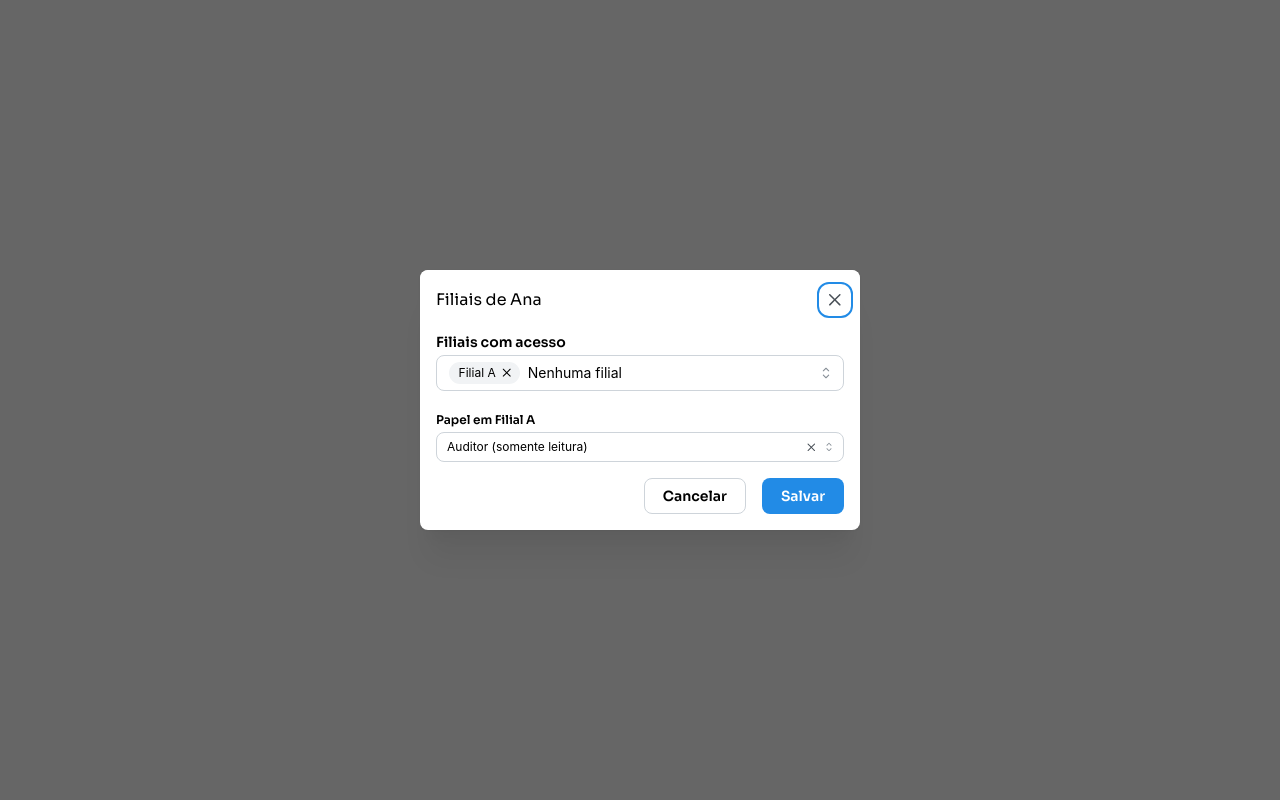
UserBranchesModal › shows the API error and stays open when saving fails
Click the button "Salvar": point(803, 496) [762,478,844,514]
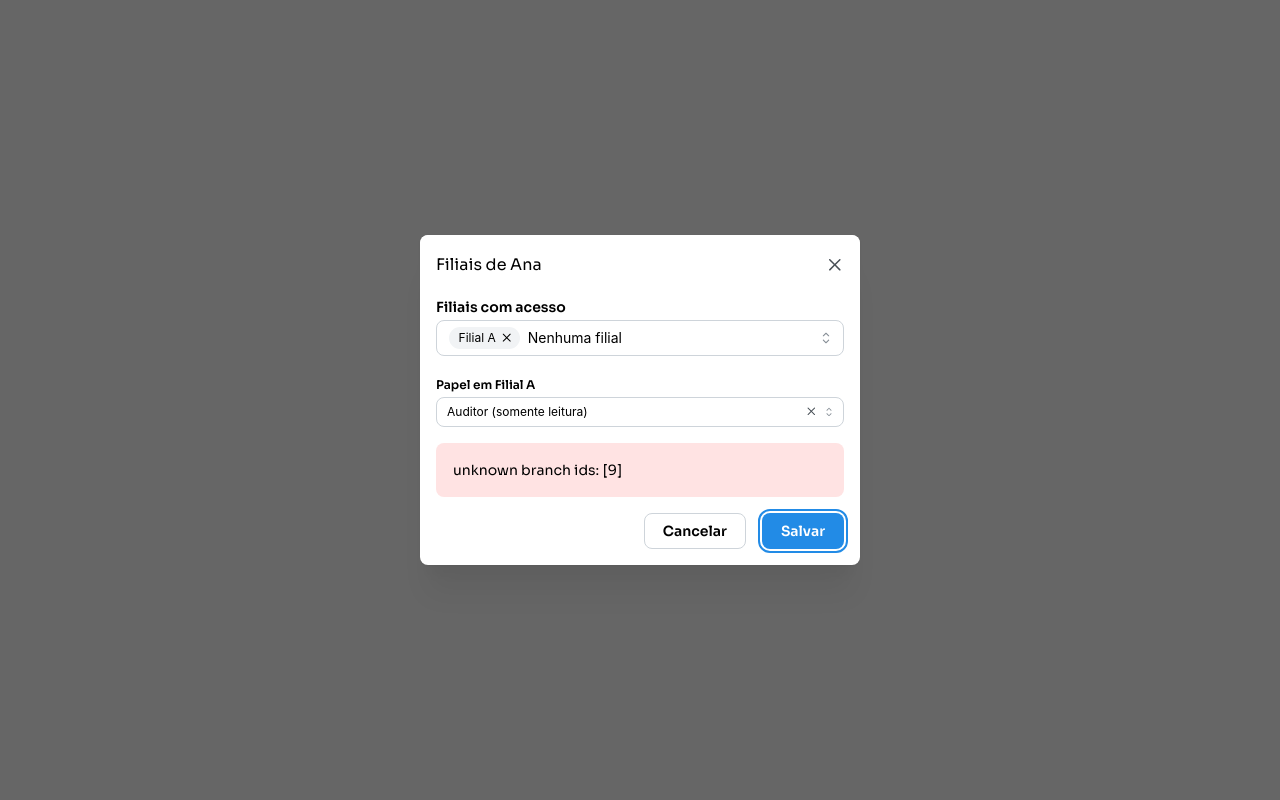
Result: the text "unknown branch ids: [9]" is shown at [453,461,622,479]
